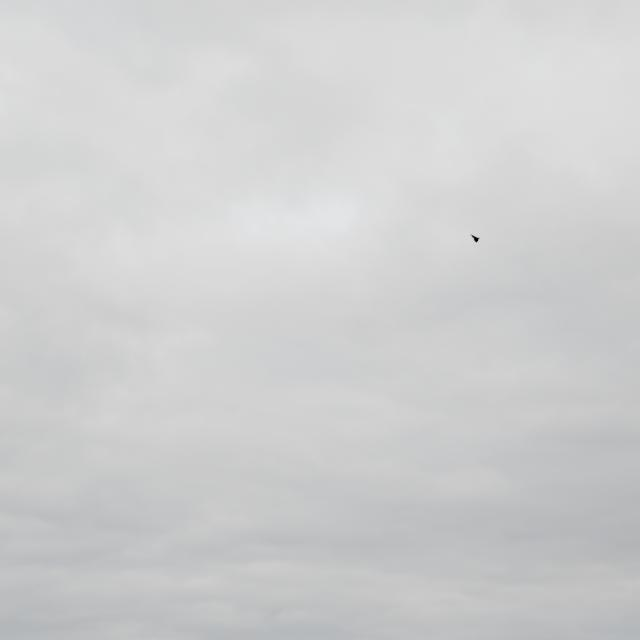Airaplan: (470, 234, 481, 243)
